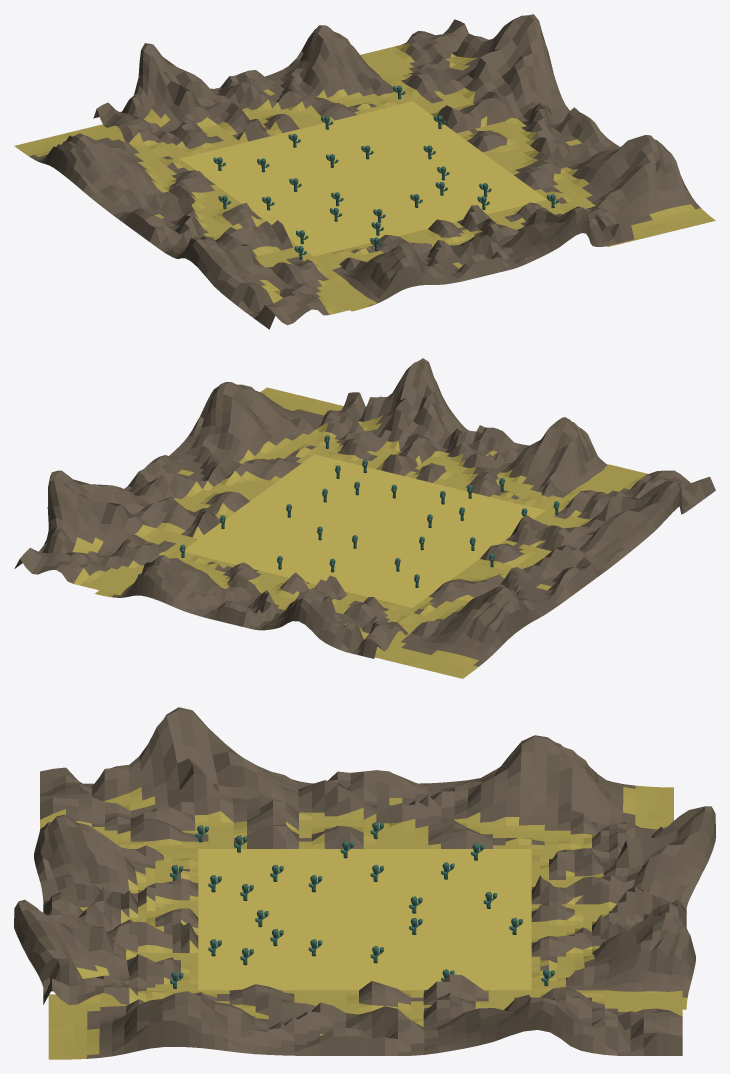
Rendered from RevisionTerrain5.fbx.
3 views of the same model, one above another, from view 1: azimuth 30°, elevation 25°; view 2: azimuth 150°, elevation 25°; view 3: azimuth 270°, elevation 25° (orthographic). The views are drawn at different scales.
Visible parts, largest first — view 1: Grid, Base, Cactus; view 2: Grid, Base, Cactus; view 3: Grid, Base, Cactus.
Part boxes in pixels (x1,y1,x2,y2): Grid: [14, 14, 715, 329]; Base: [180, 101, 546, 269]; Cactus: [213, 85, 559, 259]; Grid: [14, 358, 715, 678]; Base: [184, 454, 545, 607]; Cactus: [179, 435, 559, 587]; Grid: [14, 707, 715, 1059]; Base: [198, 849, 531, 990]; Cactus: [170, 822, 554, 988].
Bounding box in the file's own units: 1647 × 230 × 1644.
